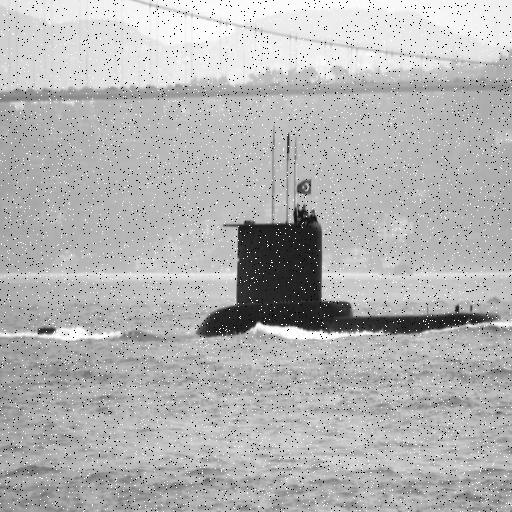submarine: (36, 226, 512, 338)
